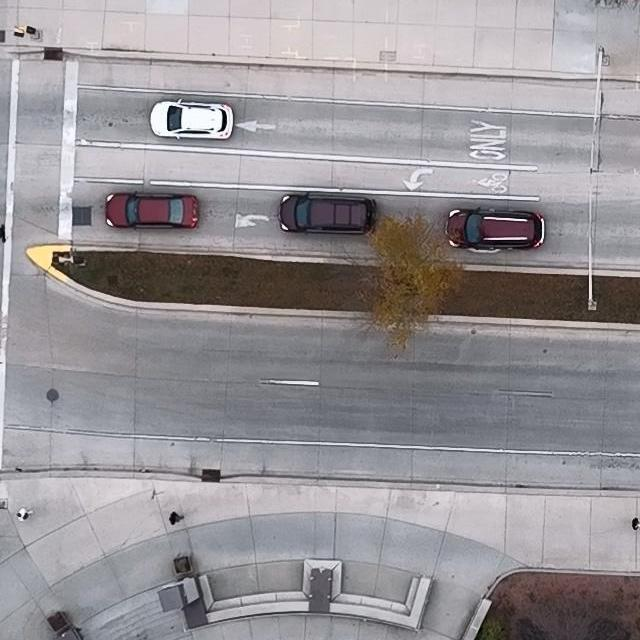car: (443, 207, 547, 251), (279, 190, 376, 235), (105, 189, 200, 230), (149, 98, 235, 141)
